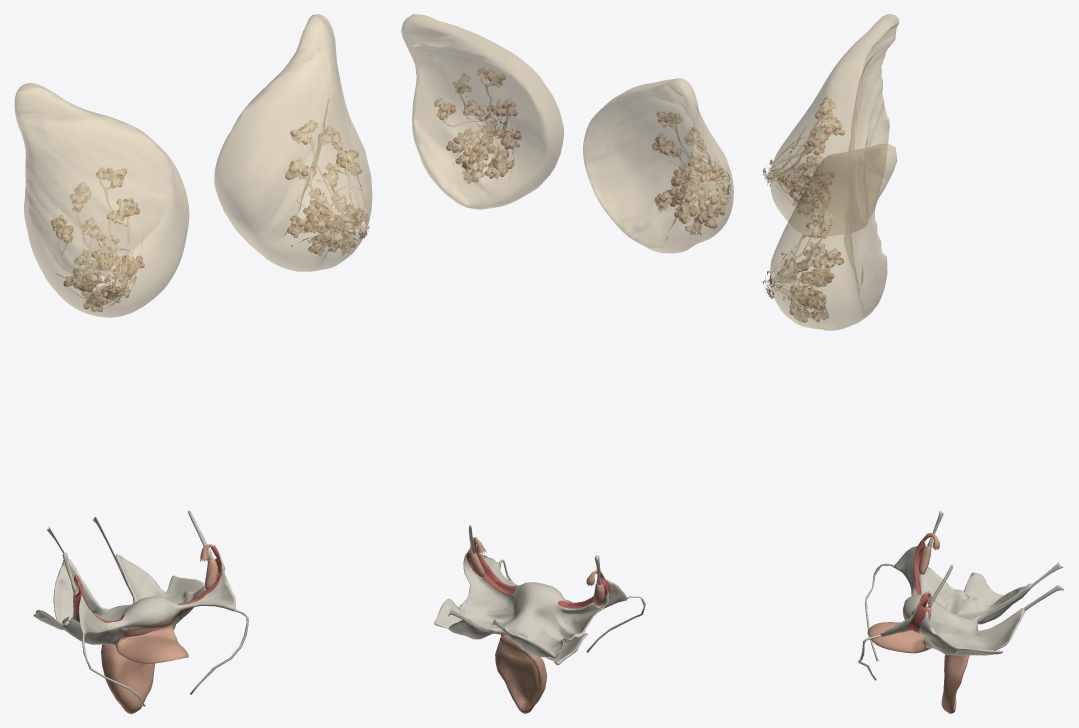
Rendered from adult_female.reproductive.LOD2.glb.
3 renders of one model, left to right at view 1: azimuth 30°, elevation 25°; view 2: azimuth 150°, elevation 25°; view 3: azimuth 270°, elevation 25°, orthographic. The views are drawn at different scales.
Parts seen in each view (by area): view 1: ADULT.FEMALE.REPRODUCTIVE.MAMMARY_FAT.R, ADULT.FEMALE.REPRODUCTIVE.MAMMARY_FAT.L, ADULT.FEMALE.REPRODUCTIVE.BROAD_LIGAMENT, ADULT.FEMALE.REPRODUCTIVE.VAGINA, ADULT.FEMALE.REPRODUCTIVE.UTEROVESICAL_POUCH, ADULT.FEMALE.REPRODUCTIVE.MAMMARY_LOBES.L, ADULT.FEMALE.REPRODUCTIVE.MAMMARY_LOBES.R; view 2: ADULT.FEMALE.REPRODUCTIVE.MAMMARY_FAT.L, ADULT.FEMALE.REPRODUCTIVE.MAMMARY_FAT.R, ADULT.FEMALE.REPRODUCTIVE.BROAD_LIGAMENT, ADULT.FEMALE.REPRODUCTIVE.VAGINA, ADULT.FEMALE.REPRODUCTIVE.MAMMARY_LOBES.L, ADULT.FEMALE.REPRODUCTIVE.MAMMARY_LOBES.R; view 3: ADULT.FEMALE.REPRODUCTIVE.MAMMARY_FAT.L, ADULT.FEMALE.REPRODUCTIVE.MAMMARY_FAT.R, ADULT.FEMALE.REPRODUCTIVE.BROAD_LIGAMENT, ADULT.FEMALE.REPRODUCTIVE.MAMMARY_LOBES.L, ADULT.FEMALE.REPRODUCTIVE.MAMMARY_LOBES.R, ADULT.FEMALE.REPRODUCTIVE.UTEROVESICAL_POUCH, ADULT.FEMALE.REPRODUCTIVE.VAGINA, ADULT.FEMALE.REPRODUCTIVE.CARDINAL_LIGAMENT_OF_UTERUS.R.
Part boxes in pixels (x1,y1,x2,y2): ADULT.FEMALE.REPRODUCTIVE.MAMMARY_FAT.R: (14, 83, 189, 317); ADULT.FEMALE.REPRODUCTIVE.MAMMARY_FAT.L: (214, 14, 372, 271); ADULT.FEMALE.REPRODUCTIVE.BROAD_LIGAMENT: (53, 552, 235, 645); ADULT.FEMALE.REPRODUCTIVE.VAGINA: (101, 644, 154, 713); ADULT.FEMALE.REPRODUCTIVE.UTEROVESICAL_POUCH: (115, 618, 188, 663); ADULT.FEMALE.REPRODUCTIVE.MAMMARY_LOBES.L: (285, 123, 362, 255); ADULT.FEMALE.REPRODUCTIVE.MAMMARY_LOBES.R: (50, 168, 144, 311); ADULT.FEMALE.REPRODUCTIVE.MAMMARY_FAT.L: (401, 14, 563, 209); ADULT.FEMALE.REPRODUCTIVE.MAMMARY_FAT.R: (583, 78, 733, 253); ADULT.FEMALE.REPRODUCTIVE.BROAD_LIGAMENT: (448, 552, 627, 658); ADULT.FEMALE.REPRODUCTIVE.VAGINA: (495, 651, 546, 713); ADULT.FEMALE.REPRODUCTIVE.MAMMARY_LOBES.L: (434, 68, 521, 180); ADULT.FEMALE.REPRODUCTIVE.MAMMARY_LOBES.R: (652, 111, 725, 235); ADULT.FEMALE.REPRODUCTIVE.MAMMARY_FAT.L: (769, 144, 897, 330); ADULT.FEMALE.REPRODUCTIVE.MAMMARY_FAT.R: (770, 14, 899, 235); ADULT.FEMALE.REPRODUCTIVE.BROAD_LIGAMENT: (880, 546, 1031, 655); ADULT.FEMALE.REPRODUCTIVE.MAMMARY_LOBES.L: (777, 188, 843, 322); ADULT.FEMALE.REPRODUCTIVE.MAMMARY_LOBES.R: (777, 98, 844, 214); ADULT.FEMALE.REPRODUCTIVE.UTEROVESICAL_POUCH: (867, 611, 931, 653); ADULT.FEMALE.REPRODUCTIVE.VAGINA: (941, 655, 967, 713); ADULT.FEMALE.REPRODUCTIVE.CARDINAL_LIGAMENT_OF_UTERUS.R: (963, 572, 1003, 605).
Bounding box in the file's own units: 0.2889 × 0.5806 × 0.2496.
